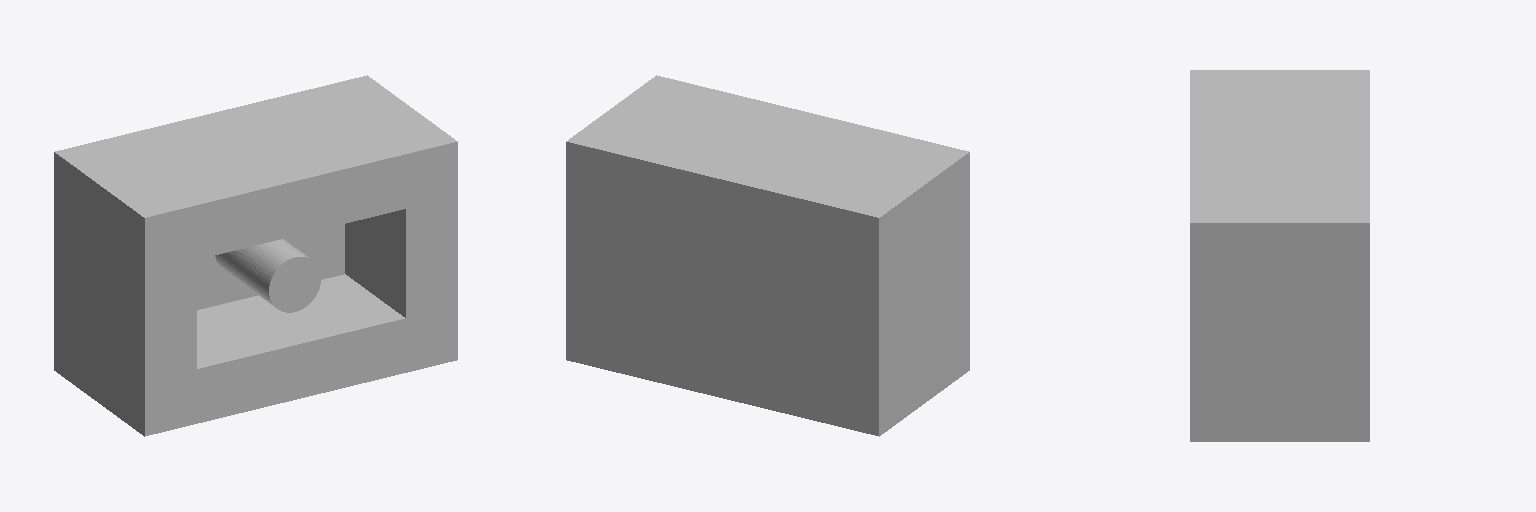
File: tank44.obj
The picture shows the model from 3 angles: view 1: azimuth 30°, elevation 25°; view 2: azimuth 150°, elevation 25°; view 3: azimuth 270°, elevation 25°; orthographic projection.
Bounding box in the file's own units: 3 × 2 × 1.5.